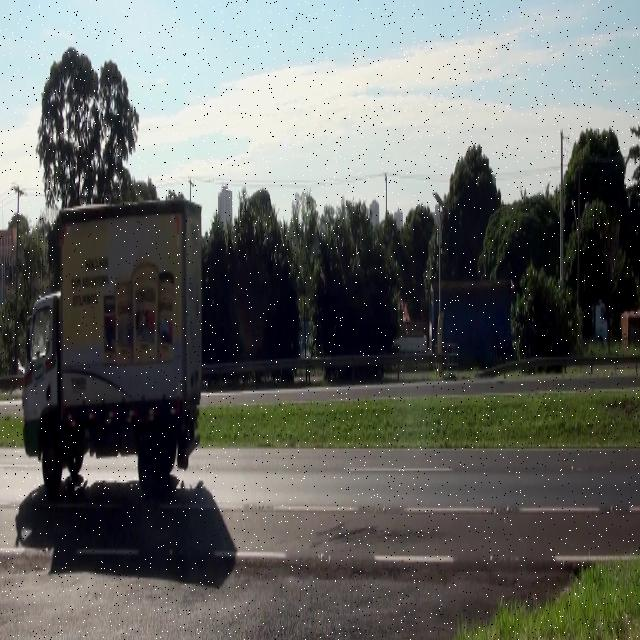-axle: (138, 427, 161, 493), (40, 432, 61, 492)
